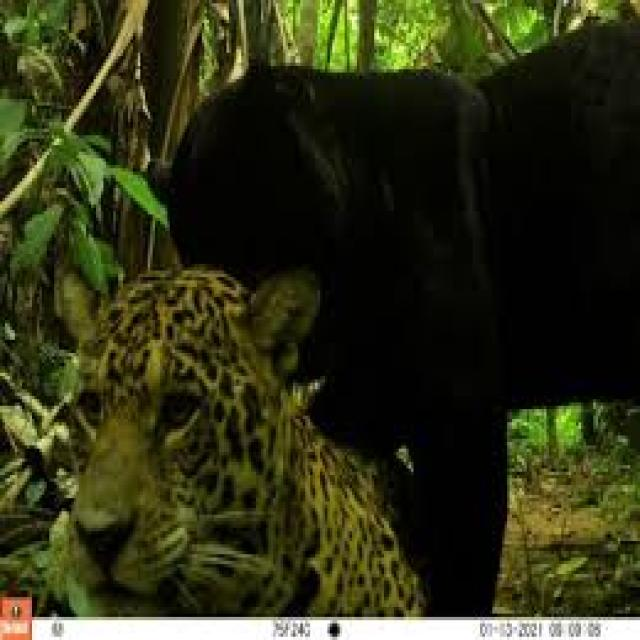Jaguar: (52, 244, 450, 610)
